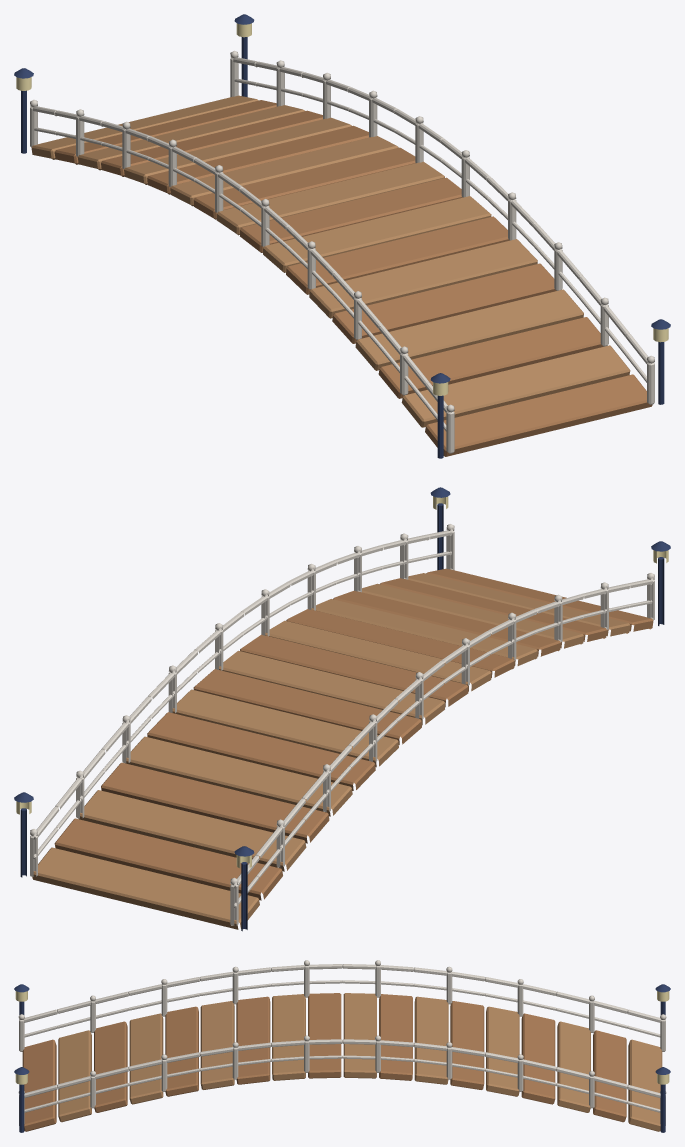
The model's file is ac_bridge.glb.
3 renders of one model, top to bottom at view 1: azimuth 30°, elevation 25°; view 2: azimuth 150°, elevation 25°; view 3: azimuth 270°, elevation 25°, orthographic. The views are drawn at different scales.
Visible parts, largest first — view 1: body; view 2: body; view 3: body.
Part boxes in pixels (bbox=[...]): body: bbox=[14, 14, 670, 458]; body: bbox=[14, 487, 670, 931]; body: bbox=[14, 960, 670, 1132].
Size of the model in its own units: 5.92 by 2.96 by 18.44.
